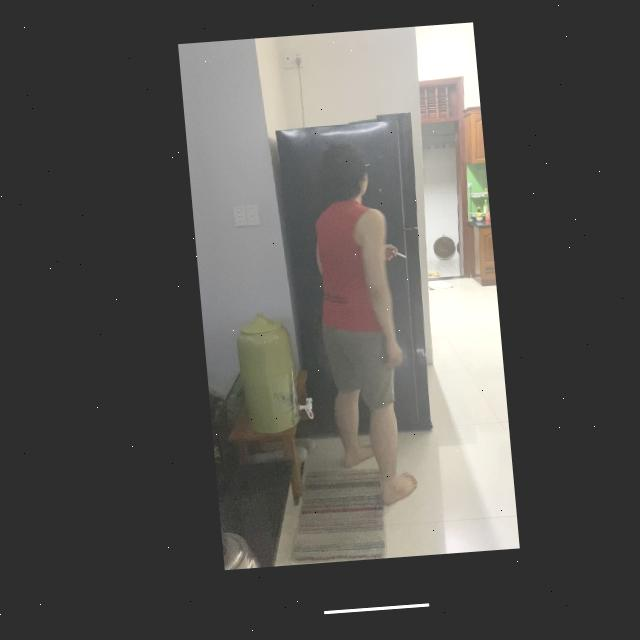cigarette: (387, 256, 400, 265)
